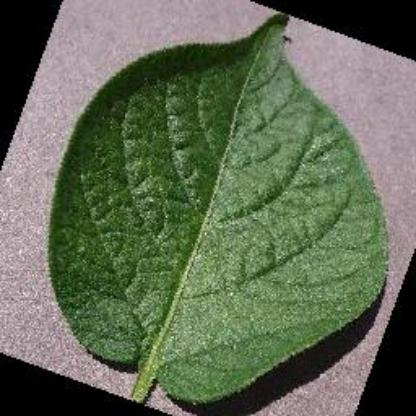Healthy-plant: (44, 11, 388, 403)
